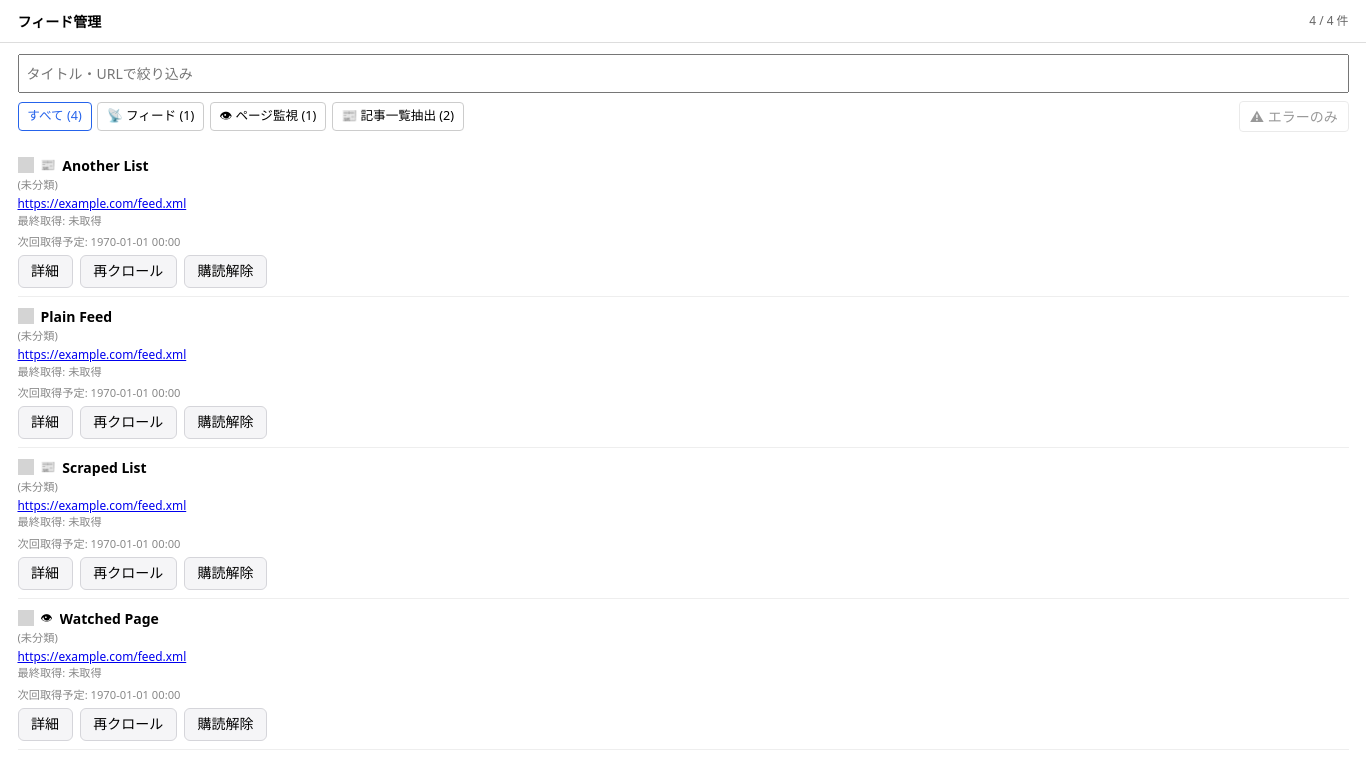
Test: FeedManagerPane kind filter › narrows to a single kind
This screenshot has width=1366, height=768.
Click the button "📰 記事一覧抽出 (2)". click: (398, 117)
box: x1=332 y1=102 x2=464 y2=131
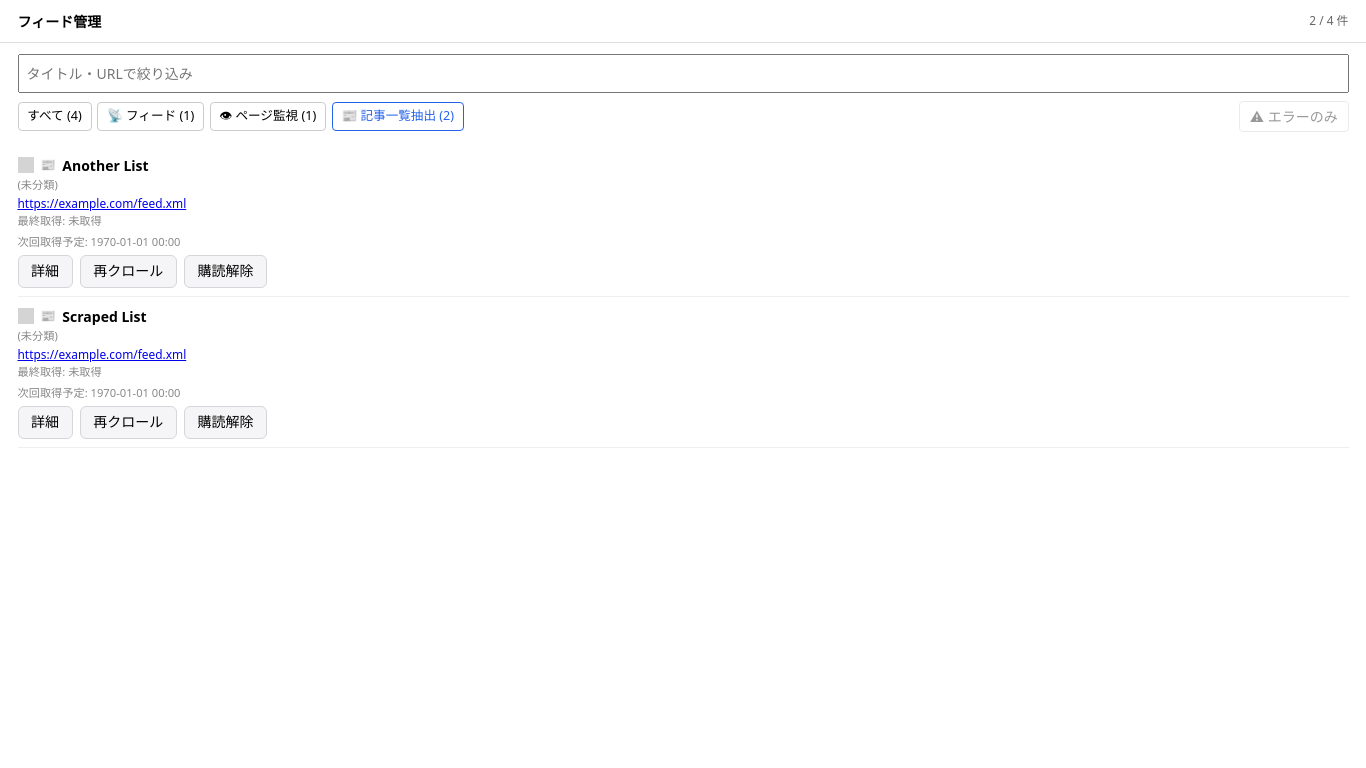
Check: the text "Scraped List" is shown, box x1=62 y1=307 x2=147 y2=326
Check: the number of list items is 2, box x1=18 y1=146 x2=1348 y2=297; x1=18 y1=297 x2=1348 y2=448
Check: the text "2 / 4 件" is shown, box x1=1309 y1=12 x2=1348 y2=30
